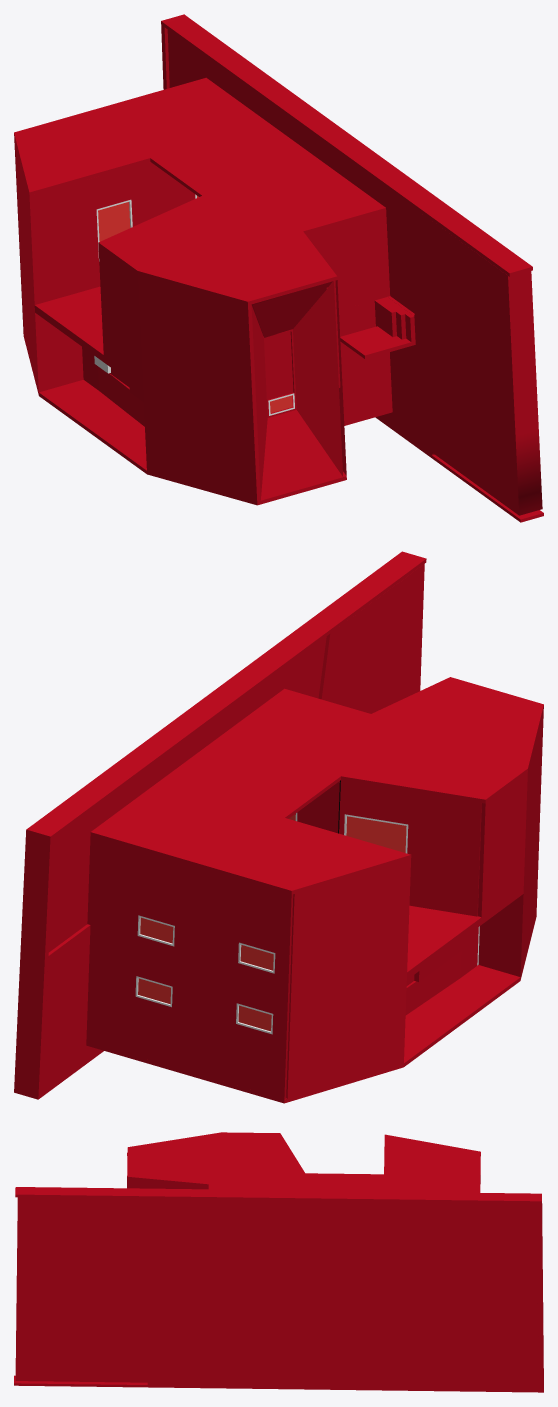
File: asset.glb
The picture shows the model from 3 angles, top to bottom: view 1: azimuth 30°, elevation 25°; view 2: azimuth 150°, elevation 25°; view 3: azimuth 270°, elevation 25°; orthographic projection. The views are drawn at different scales.
Visible parts, largest first — view 1: 3D_FACADE_BLACK, 3D_FIRST FLOOR, 3D_WALL, 3D_FACADE_REFLECTIVE, 3D_SURROUNDING CONTEXT, 3D_TURF, 3D_FACADE_WHITE, 3d_Glass, 3D_FLOOR, 3D_FACADE_REFLECTIVE.001, Windows frames; view 2: 3D_FACADE_BLACK, 3D_FIRST FLOOR, 3D_SURROUNDING CONTEXT, 3D_FACADE_WHITE, 3D_TURF, 3d_Glass, 3D_FLOOR, 3D_WALL, Windows frames; view 3: 3D_FIRST FLOOR, 3D_TURF, 3D_FACADE_BLACK, 3D_SURROUNDING CONTEXT, 3D_FACADE_REFLECTIVE.
Boxes of the visible parts, bbox=[...] form: 3D_FACADE_BLACK: bbox=[14, 82, 379, 505]; 3D_FIRST FLOOR: bbox=[191, 77, 542, 515]; 3D_WALL: bbox=[33, 162, 195, 391]; 3D_FACADE_REFLECTIVE: bbox=[251, 280, 346, 500]; 3D_SURROUNDING CONTEXT: bbox=[161, 14, 543, 522]; 3D_TURF: bbox=[167, 30, 420, 313]; 3D_FACADE_WHITE: bbox=[34, 286, 103, 362]; 3d_Glass: bbox=[98, 195, 293, 412]; 3D_FLOOR: bbox=[82, 280, 340, 426]; 3D_FACADE_REFLECTIVE.001: bbox=[252, 281, 332, 337]; Windows frames: bbox=[94, 194, 296, 417]; 3D_FACADE_BLACK: bbox=[99, 677, 543, 1103]; 3D_FIRST FLOOR: bbox=[43, 564, 424, 1083]; 3D_SURROUNDING CONTEXT: bbox=[14, 551, 426, 1099]; 3D_FACADE_WHITE: bbox=[297, 780, 481, 979]; 3D_TURF: bbox=[48, 636, 326, 952]; 3d_Glass: bbox=[138, 813, 406, 1031]; 3D_FLOOR: bbox=[405, 926, 479, 1015]; 3D_WALL: bbox=[478, 897, 519, 975]; Windows frames: bbox=[135, 813, 408, 1034]; 3D_FIRST FLOOR: bbox=[15, 1197, 538, 1389]; 3D_TURF: bbox=[150, 1199, 537, 1289]; 3D_FACADE_BLACK: bbox=[127, 1132, 480, 1192]; 3D_SURROUNDING CONTEXT: bbox=[14, 1187, 543, 1392]; 3D_FACADE_REFLECTIVE: bbox=[127, 1179, 208, 1189].
Size of the model in its own units: 45.18 by 41.16 by 102.
